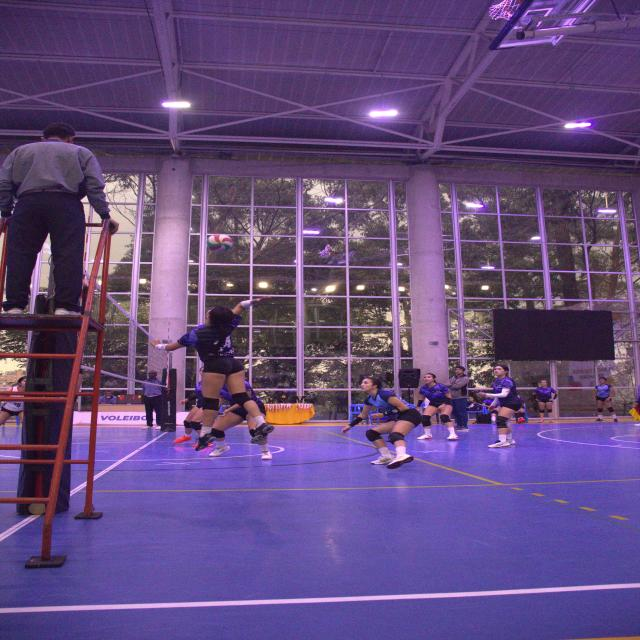volleyball: (204, 233, 232, 252)
